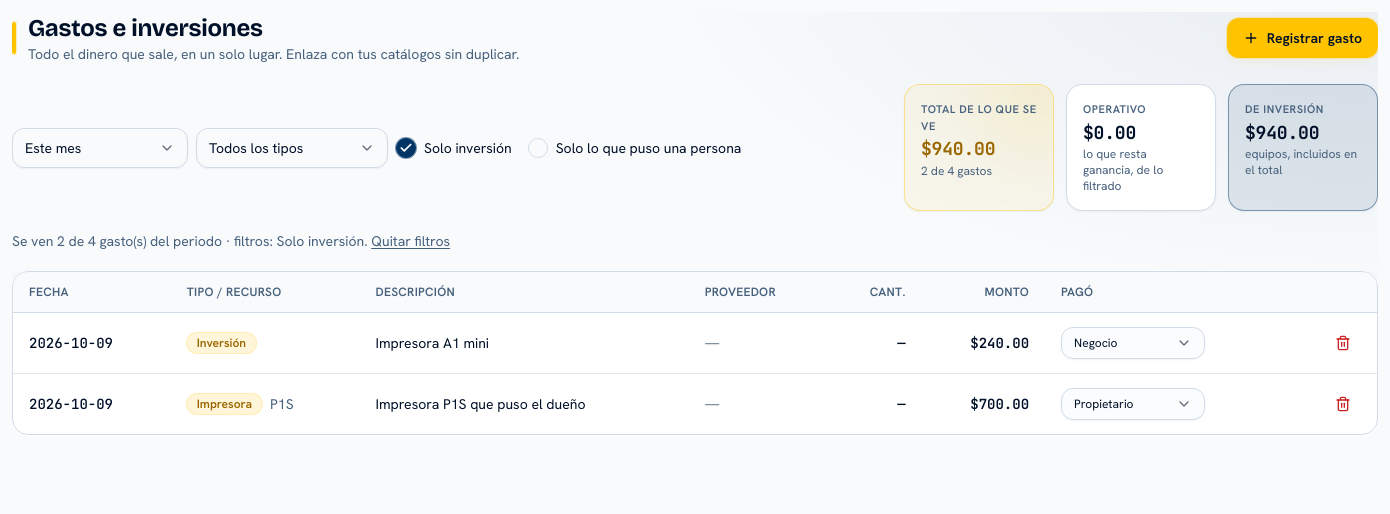
Test case: Gastos: las dos casillas › "Quitar filtros" también DESMARCA las casillas
Step 1. Click the button "Quitar filtros" → (411, 241), box 371,231 -> 450,251
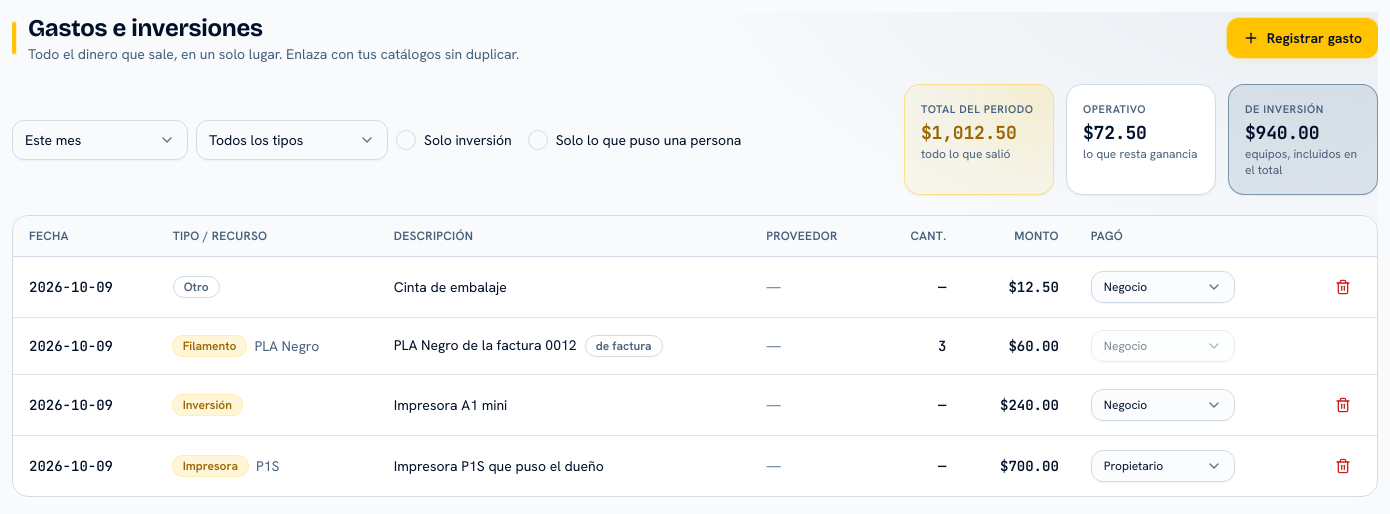
Now the checkbox labelled "Solo inversión" is not checked, box 396,130 -> 512,150
Now the text "Total del periodo" is shown, box 921,101 -> 1037,118
